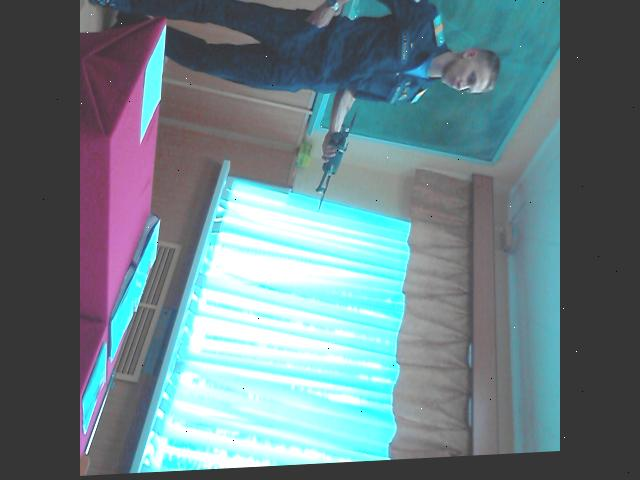drone: (313, 88, 357, 220)
